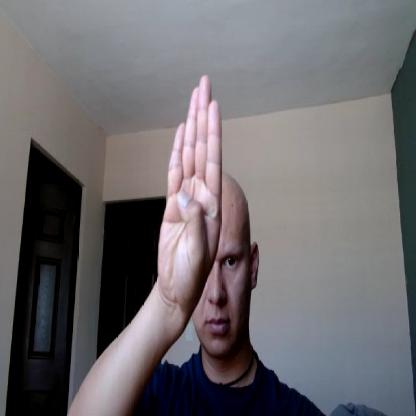B: (158, 74, 224, 305)
